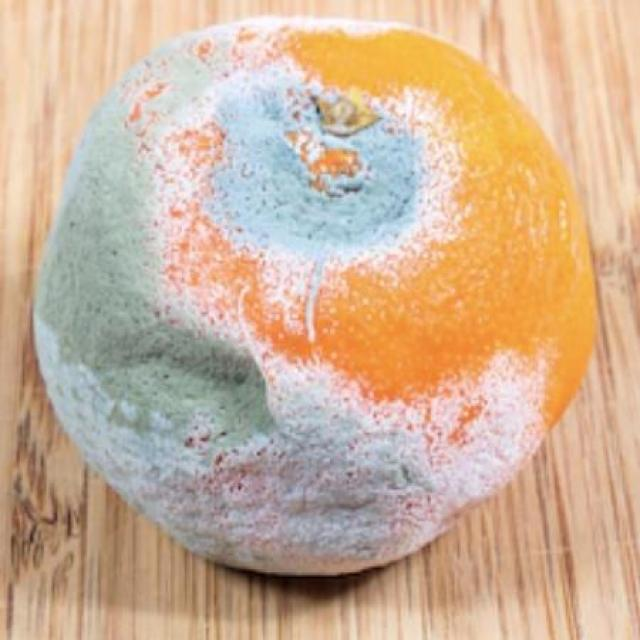rotten orange: (31, 14, 601, 578)
